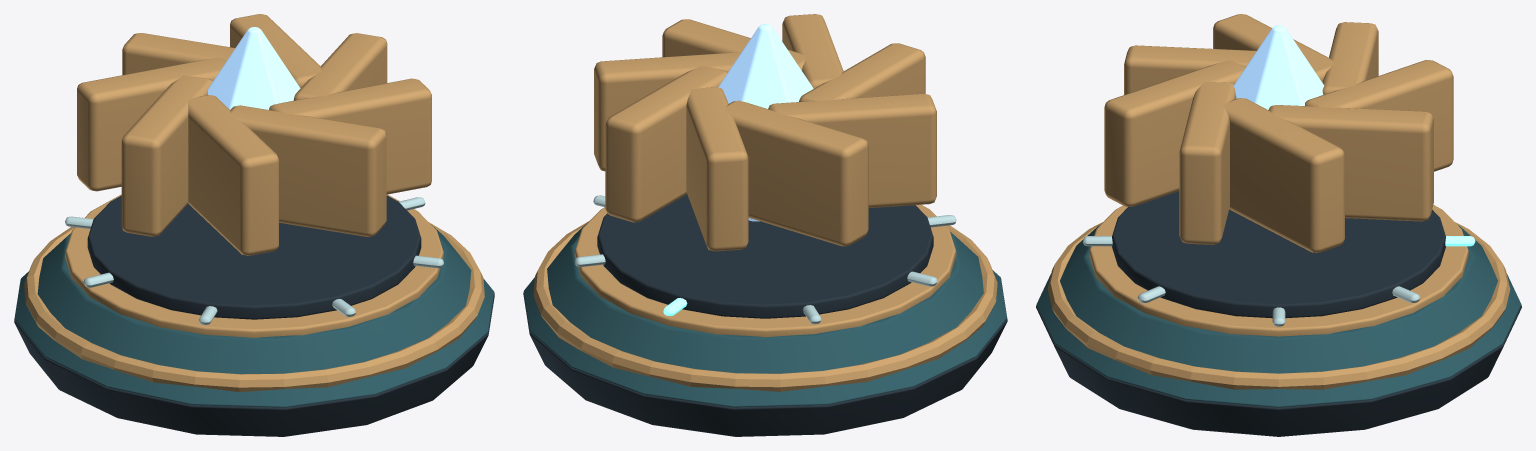
Rendered from twister.glb.
The picture shows the model from 3 angles, left to right: view 1: azimuth 30°, elevation 25°; view 2: azimuth 150°, elevation 25°; view 3: azimuth 270°, elevation 25°; orthographic projection.
Parts seen in each view (by area): view 1: twister; view 2: twister; view 3: twister.
Boxes of the visible parts, box(x1,y1,x2,y2) form: twister: box(14, 14, 494, 436); twister: box(523, 14, 1007, 436); twister: box(1036, 14, 1521, 436).
Bounding box in the file's own units: 1.08 × 0.77 × 1.08.
